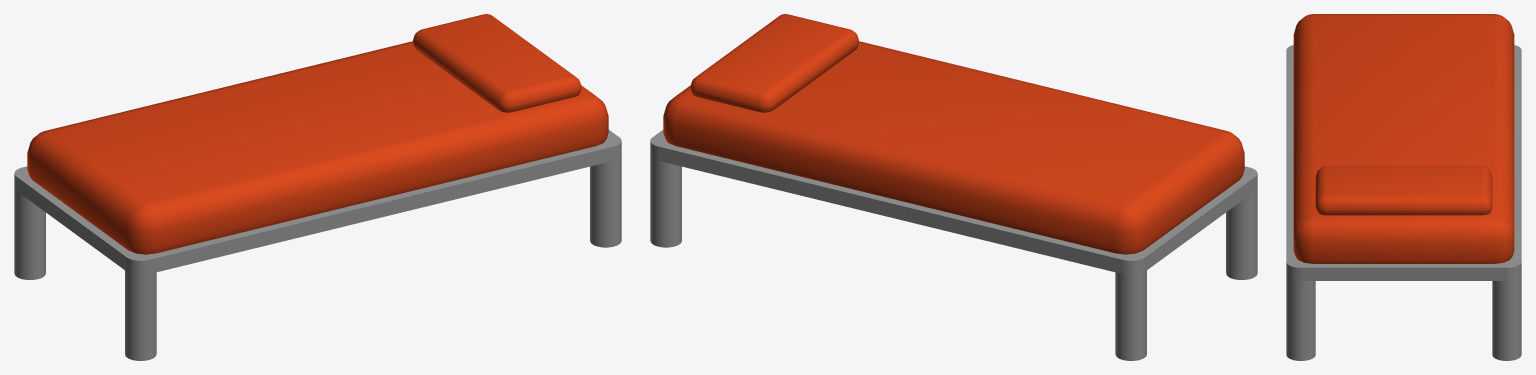
The model's file is lettoArancio.obj.
3 views of the same model, side by side, from view 1: azimuth 30°, elevation 25°; view 2: azimuth 150°, elevation 25°; view 3: azimuth 270°, elevation 25° (orthographic). The views are drawn at different scales.
Parts seen in each view (by area): view 1: ChamferBox33_3, Rectangle10_1, ChamferBox32_2, Cylinder06_5, Cylinder07_6, Cylinder05_4; view 2: ChamferBox33_3, Rectangle10_1, ChamferBox32_2, Cylinder05_4, Cylinder08_7, Cylinder06_5; view 3: ChamferBox33_3, ChamferBox32_2, Rectangle10_1, Cylinder07_6, Cylinder08_7.
Part boxes in pixels (x1=…): ChamferBox33_3: x1=27, y1=41, x2=608, y2=254; Rectangle10_1: x1=14, y1=130, x2=621, y2=275; ChamferBox32_2: x1=413, y1=14, x2=581, y2=112; Cylinder06_5: x1=125, y1=270, x2=156, y2=360; Cylinder07_6: x1=590, y1=155, x2=621, y2=247; Cylinder05_4: x1=14, y1=188, x2=45, y2=279; ChamferBox33_3: x1=663, y1=41, x2=1244, y2=254; Rectangle10_1: x1=650, y1=130, x2=1257, y2=275; ChamferBox32_2: x1=690, y1=14, x2=858, y2=112; Cylinder05_4: x1=1115, y1=270, x2=1146, y2=360; Cylinder08_7: x1=650, y1=155, x2=681, y2=247; Cylinder06_5: x1=1226, y1=188, x2=1257, y2=279; ChamferBox33_3: x1=1293, y1=14, x2=1514, y2=263; ChamferBox32_2: x1=1315, y1=166, x2=1492, y2=215; Rectangle10_1: x1=1286, y1=45, x2=1521, y2=280; Cylinder07_6: x1=1286, y1=275, x2=1315, y2=360; Cylinder08_7: x1=1492, y1=275, x2=1521, y2=360.
Bounding box in the file's own units: 180 × 56.01 × 80.
